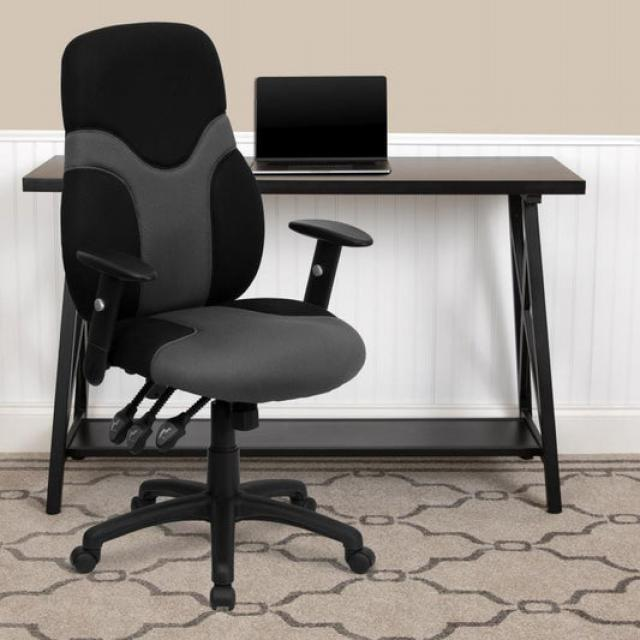chair: (59, 19, 376, 608)
